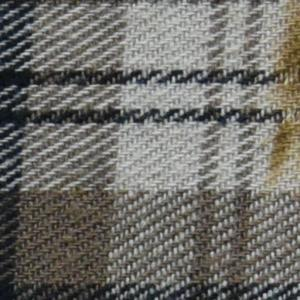Oil Stain: (257, 1, 300, 193)
